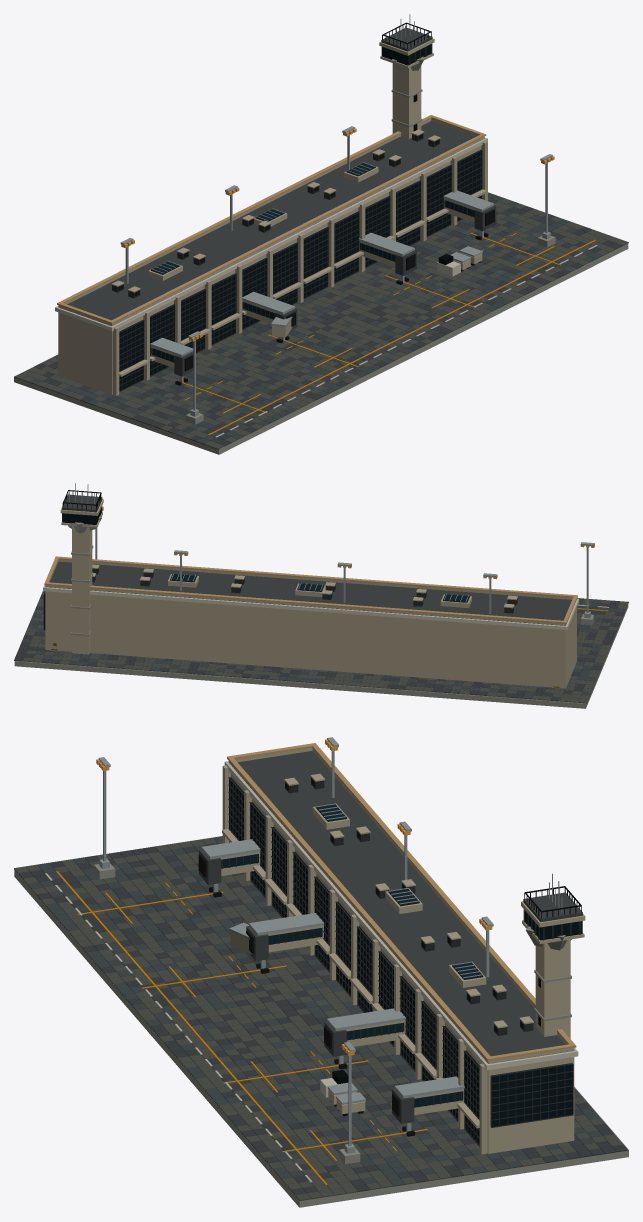
Rendered from SM_Mapa_035.fbx.
3 views of the same model, one above another, from view 1: azimuth 30°, elevation 25°; view 2: azimuth 150°, elevation 25°; view 3: azimuth 270°, elevation 25° (orthographic). The views are drawn at different scales.
Parts seen in each view (by area): view 1: SM_Mapa_035; view 2: SM_Mapa_035; view 3: SM_Mapa_035.
Part boxes in pixels (box(x1,y1,x2,y2)): SM_Mapa_035: box(14, 14, 628, 454); SM_Mapa_035: box(14, 483, 628, 708); SM_Mapa_035: box(14, 737, 628, 1207).
Bounding box in the file's own units: 300 × 204 × 91.54.
